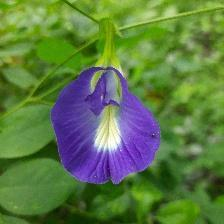shankupushpam: (50, 66, 164, 189)
